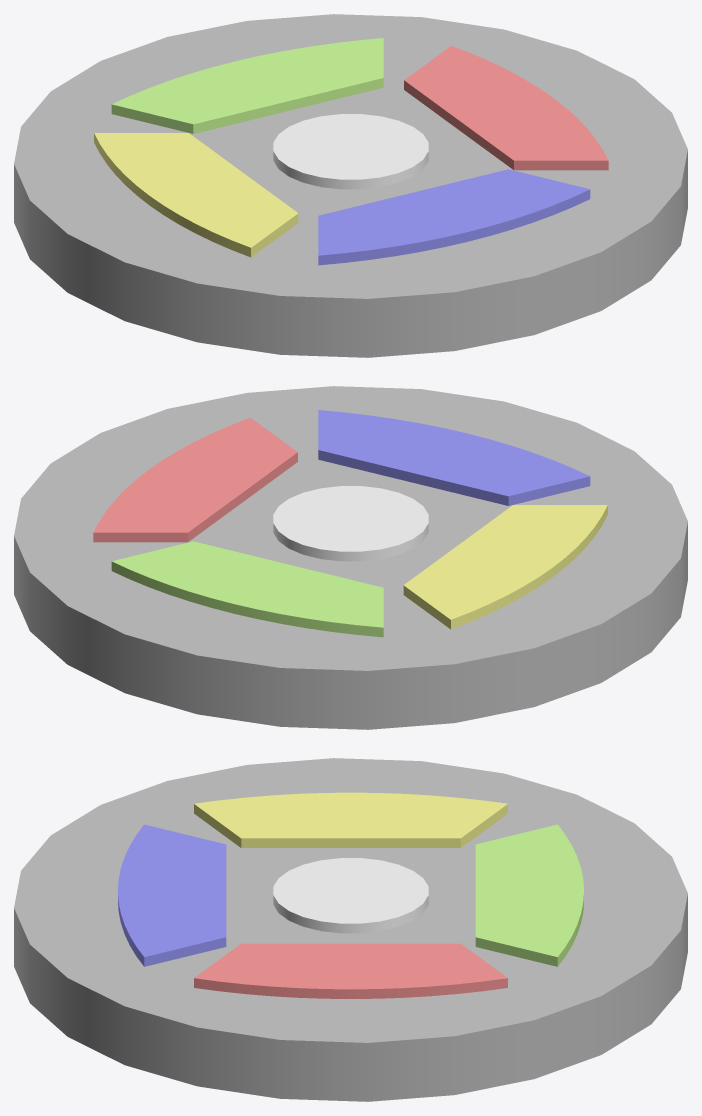
The model's file is full.obj.
3 renders of one model, top to bottom at view 1: azimuth 30°, elevation 25°; view 2: azimuth 150°, elevation 25°; view 3: azimuth 270°, elevation 25°, orthographic.
Visible parts, largest first — view 1: Mesh5 Model, Mesh1 Group1 Model, Mesh3 Group3 Model, Mesh2 Group2 Model, Mesh4 Group4 Model; view 2: Mesh5 Model, Mesh3 Group3 Model, Mesh1 Group1 Model, Mesh2 Group2 Model, Mesh4 Group4 Model; view 3: Mesh5 Model, Mesh2 Group2 Model, Mesh4 Group4 Model, Mesh1 Group1 Model, Mesh3 Group3 Model.
Boxes of the visible parts, x1,y1,x2,y2 form: Mesh5 Model: (14, 14, 687, 357); Mesh1 Group1 Model: (318, 169, 590, 265); Mesh3 Group3 Model: (111, 38, 383, 133); Mesh2 Group2 Model: (404, 45, 608, 170); Mesh4 Group4 Model: (94, 133, 298, 257); Mesh5 Model: (14, 386, 687, 729); Mesh3 Group3 Model: (111, 541, 383, 637); Mesh1 Group1 Model: (318, 410, 590, 505); Mesh2 Group2 Model: (93, 417, 297, 542); Mesh4 Group4 Model: (403, 505, 607, 629); Mesh5 Model: (14, 758, 687, 1101); Mesh2 Group2 Model: (194, 943, 507, 998); Mesh4 Group4 Model: (194, 792, 507, 847); Mesh1 Group1 Model: (118, 824, 226, 966); Mesh3 Group3 Model: (475, 824, 583, 966).
Bounding box in the file's own units: 183 × 20.5 × 183.
